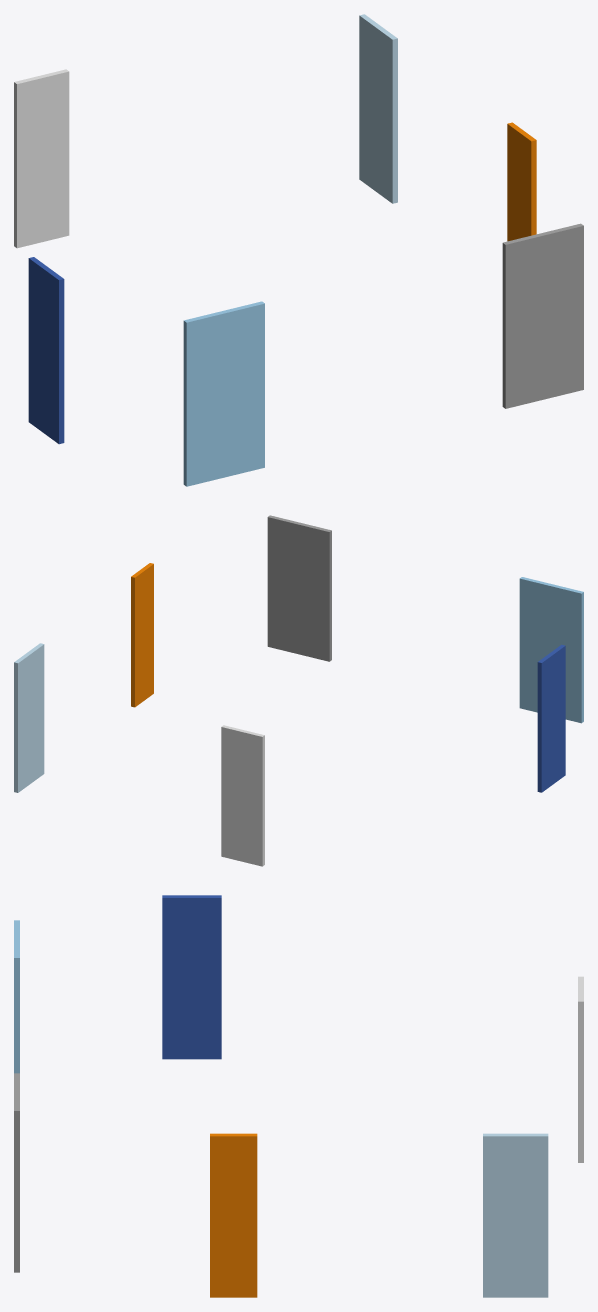
3 views of the same model, one above another, from view 1: azimuth 30°, elevation 25°; view 2: azimuth 150°, elevation 25°; view 3: azimuth 270°, elevation 25° (orthographic). The views are drawn at different scales.
Visible parts, largest first — view 1: 5e958ee6bea15a15cbad2950 (×6); view 2: 5e958ee6bea15a15cbad2950 (×6); view 3: 5e958ee6bea15a15cbad2950 (×6).
Part boxes in pixels (x1,y1,x2,y2): 5e958ee6bea15a15cbad2950 (×6): (14, 14, 583, 486); 5e958ee6bea15a15cbad2950 (×6): (14, 515, 583, 866); 5e958ee6bea15a15cbad2950 (×6): (14, 895, 583, 1297).
Size of the model in its own units: 9.6 by 9.6 by 3.
